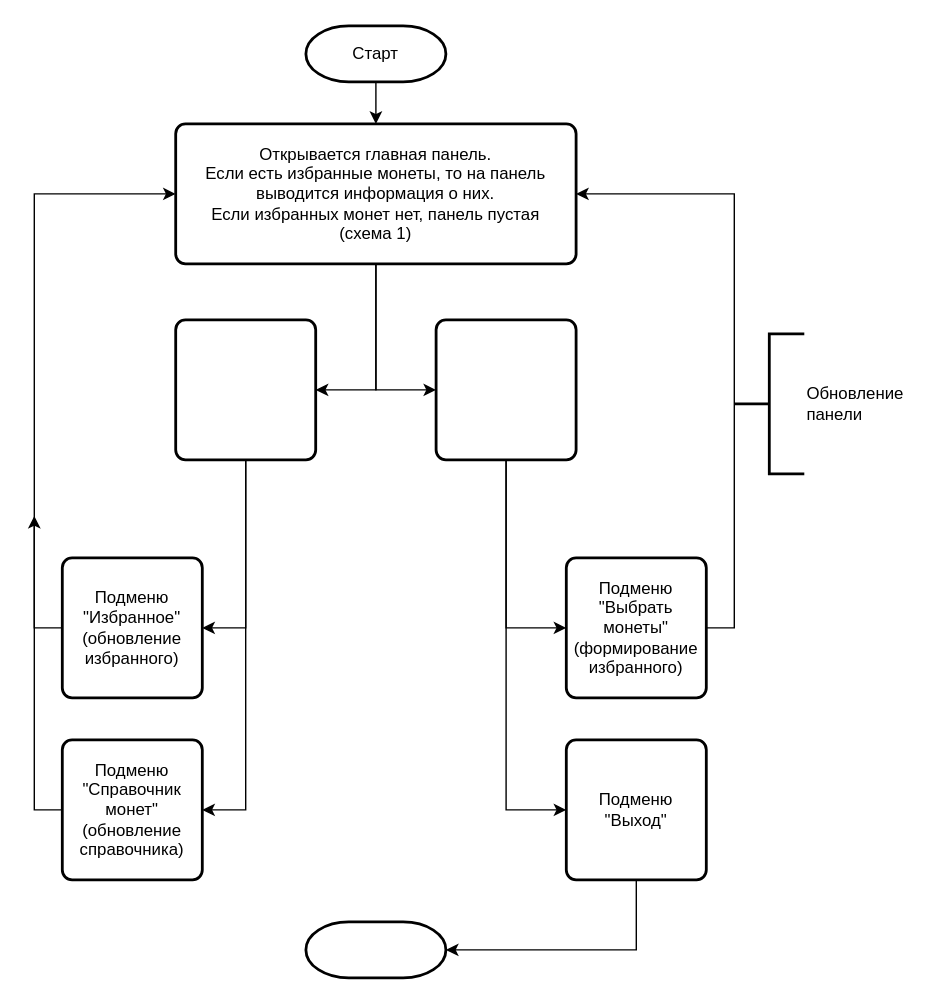
The diagram is 928 pixels wide and 1002 high, and some of its shapes have lost their labels. The centre of each missing label's shape, as x and y in pixels:
Меню "Обновление": (245,389)
Меню "Панель": (505,389)
Стоп: (375,949)
